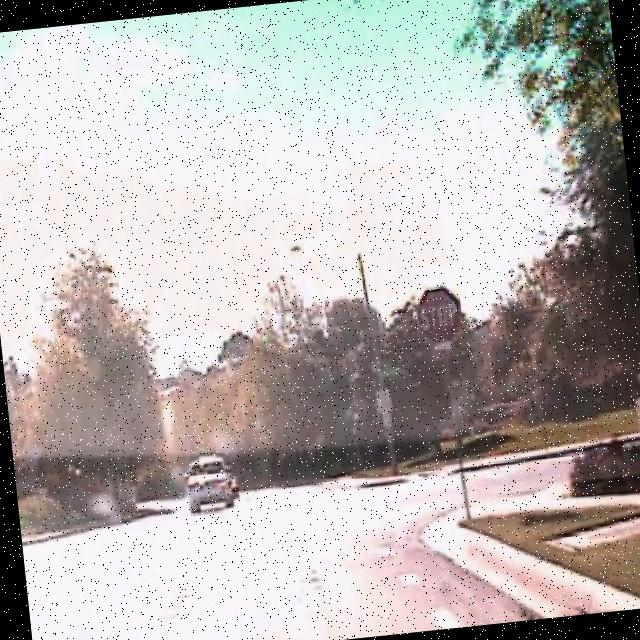Stop: (414, 284, 464, 349)
